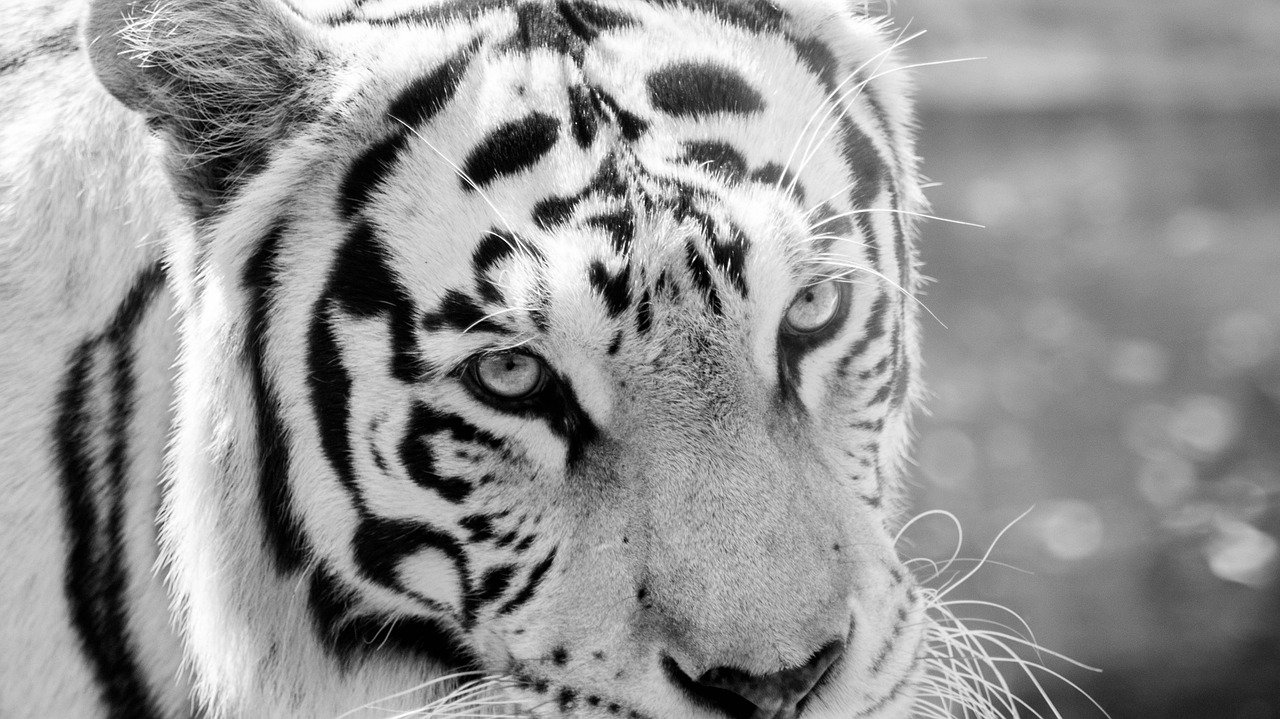tiger: (48, 8, 1176, 719)
